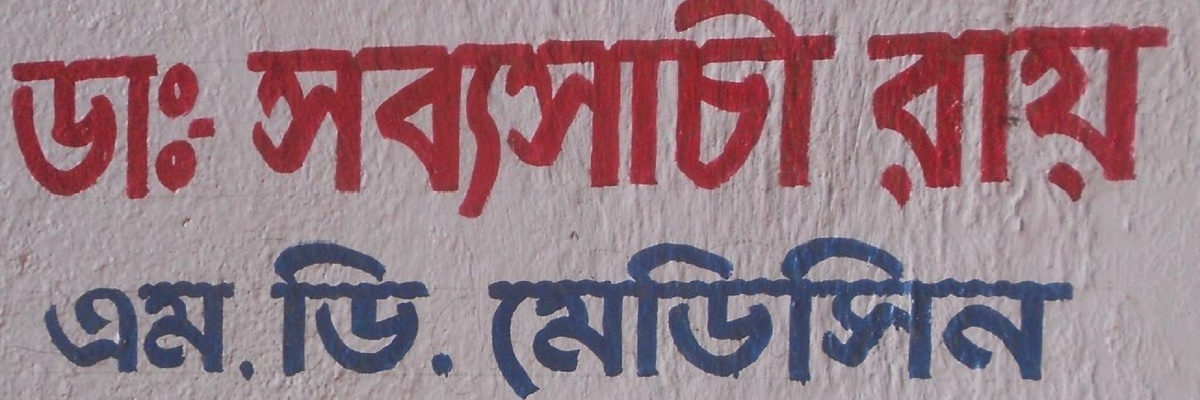text: (257, 1, 272, 222), (273, 1, 288, 222), (289, 1, 304, 222), (305, 1, 320, 222), (321, 1, 336, 222), (337, 1, 352, 222), (353, 1, 368, 222), (369, 1, 384, 222), (385, 1, 400, 222), (401, 1, 416, 222), (417, 1, 432, 222), (433, 1, 448, 222), (449, 1, 464, 222), (465, 1, 480, 222), (481, 1, 496, 222), (497, 1, 512, 222), (513, 1, 528, 222), (529, 1, 544, 222), (545, 1, 560, 222), (561, 1, 576, 222), (577, 1, 592, 222), (593, 1, 608, 222), (609, 1, 624, 222), (625, 1, 640, 222), (641, 1, 656, 222), (657, 1, 672, 222), (673, 1, 688, 222), (689, 1, 704, 222), (705, 1, 720, 222), (721, 1, 736, 222), (737, 1, 752, 222), (753, 1, 768, 222), (769, 1, 784, 222), (785, 1, 800, 222), (801, 1, 816, 222), (817, 1, 832, 222), (833, 1, 847, 222), (881, 23, 896, 212), (897, 23, 912, 212), (913, 23, 928, 212), (929, 23, 944, 212), (945, 23, 960, 212), (961, 23, 976, 212), (977, 23, 992, 212), (993, 23, 1008, 212), (1009, 23, 1024, 212), (1025, 23, 1040, 212), (1041, 23, 1056, 212), (1057, 23, 1072, 212), (1073, 23, 1088, 212), (1089, 23, 1104, 212), (1105, 23, 1120, 212), (1121, 23, 1136, 212), (1137, 23, 1152, 212), (1153, 23, 1168, 212), (497, 228, 512, 399), (513, 228, 528, 399), (529, 228, 544, 399), (545, 228, 560, 399), (561, 228, 576, 399), (577, 228, 592, 399), (593, 228, 608, 399), (609, 228, 624, 399), (625, 228, 640, 399), (641, 228, 656, 399), (657, 228, 672, 399), (673, 228, 688, 399), (689, 228, 704, 399), (705, 228, 720, 399), (721, 228, 736, 399), (737, 228, 752, 399), (753, 228, 768, 399), (769, 228, 784, 399), (785, 228, 800, 399), (801, 228, 816, 399), (817, 228, 832, 399), (833, 228, 848, 399), (849, 228, 864, 399), (865, 228, 880, 399), (881, 228, 896, 399), (897, 228, 912, 399), (913, 228, 928, 399), (929, 228, 944, 399), (945, 228, 960, 399), (961, 228, 976, 399), (977, 228, 992, 399), (993, 228, 1008, 399), (1009, 228, 1024, 399), (1025, 228, 1040, 399), (1041, 228, 1056, 399), (1057, 228, 1072, 399), (245, 1, 256, 222), (868, 23, 880, 212), (17, 53, 32, 201), (33, 53, 48, 201), (49, 53, 64, 201), (65, 53, 80, 201), (81, 53, 96, 201), (97, 53, 112, 201), (113, 53, 128, 201), (129, 53, 144, 201), (145, 53, 160, 201), (161, 53, 176, 201), (177, 53, 192, 201), (193, 53, 208, 201), (273, 239, 288, 382), (289, 239, 304, 382), (305, 239, 320, 382), (321, 239, 336, 382), (337, 239, 352, 382), (353, 239, 368, 382), (369, 239, 384, 382), (385, 239, 400, 382), (401, 239, 416, 382), (417, 239, 432, 382), (433, 239, 448, 382), (485, 228, 496, 399), (209, 53, 220, 201), (49, 279, 64, 382), (65, 279, 80, 382), (81, 279, 96, 382), (97, 279, 112, 382), (113, 279, 128, 382), (129, 279, 144, 382), (145, 279, 160, 382), (161, 279, 176, 382), (177, 279, 192, 382), (193, 279, 208, 382), (209, 279, 224, 382), (225, 279, 240, 382), (241, 279, 253, 382), (9, 53, 16, 201), (1073, 228, 1079, 399), (449, 239, 456, 382), (268, 239, 272, 382), (1169, 23, 1172, 212), (43, 279, 48, 382)
